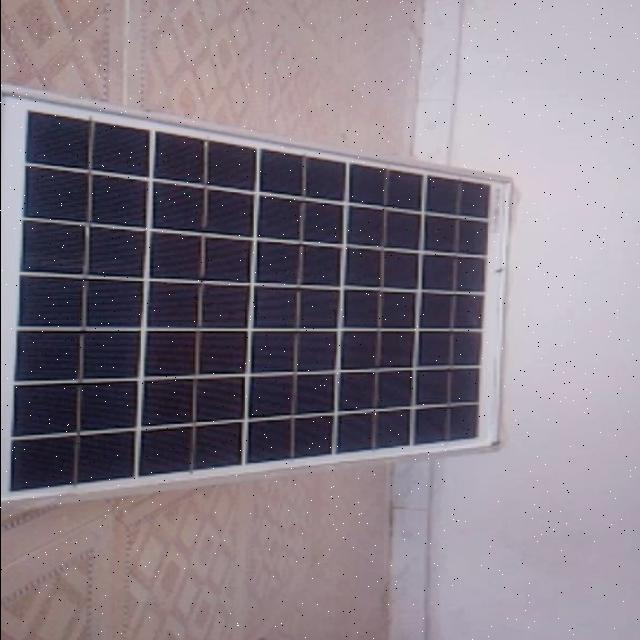Normal Solar Panel: (0, 83, 514, 513)
